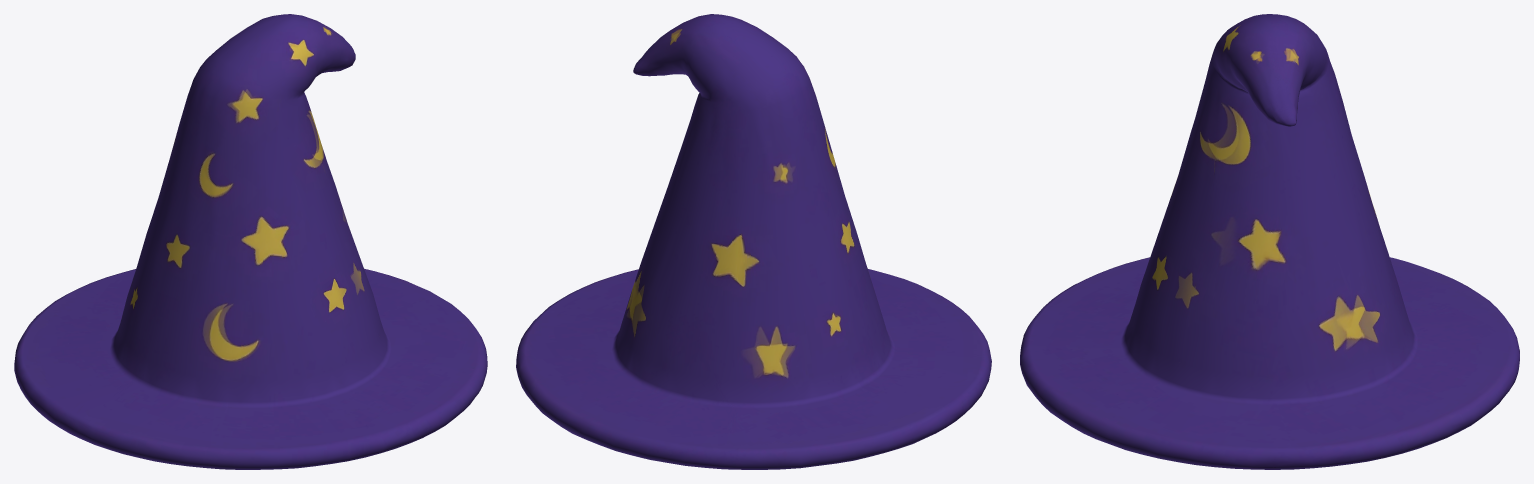
Rendered from optimized_glb.glb.
3 renders of one model, left to right at view 1: azimuth 30°, elevation 25°; view 2: azimuth 150°, elevation 25°; view 3: azimuth 270°, elevation 25°, orthographic. The views are drawn at different scales.
Visible parts, largest first — view 1: Purple Star Moon Hat; view 2: Purple Star Moon Hat; view 3: Purple Star Moon Hat.
Boxes of the visible parts, bbox=[...] form: Purple Star Moon Hat: bbox=[14, 14, 487, 469]; Purple Star Moon Hat: bbox=[516, 14, 991, 469]; Purple Star Moon Hat: bbox=[1020, 14, 1519, 469].
Size of the model in its own units: 0.998 by 0.8066 by 0.998.
1 material, 1 textured.
